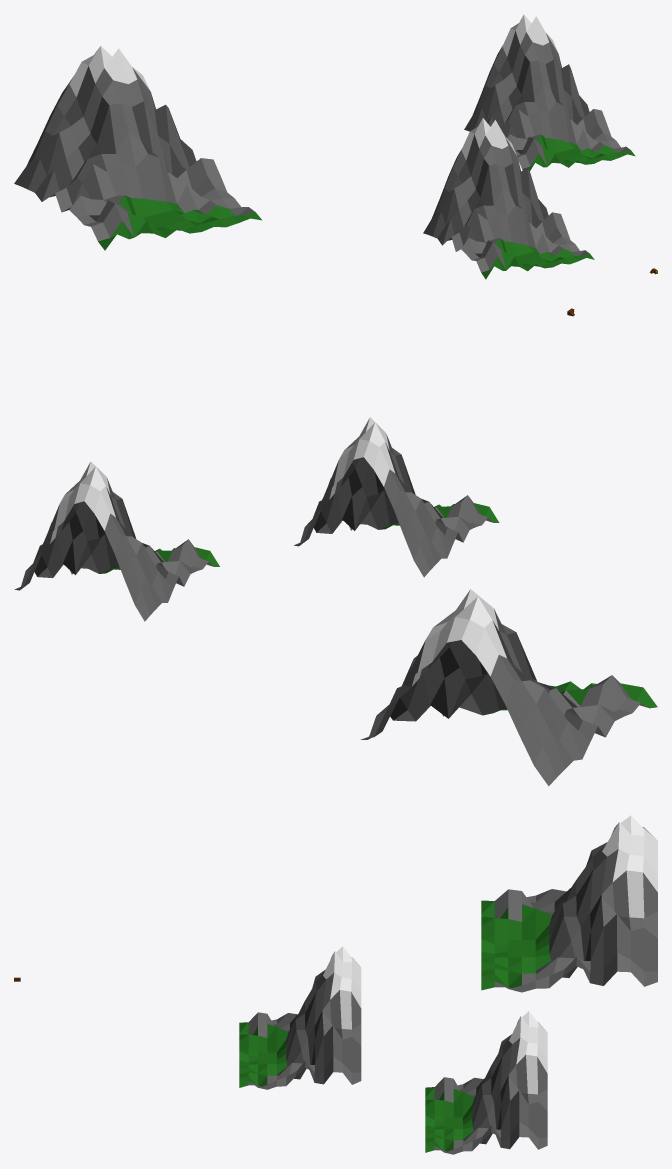
The model's file is top_block.fbx.
3 renders of one model, top to bottom at view 1: azimuth 30°, elevation 25°; view 2: azimuth 150°, elevation 25°; view 3: azimuth 270°, elevation 25°, orthographic. The views are drawn at different scales.
Parts seen in each view (by area): view 1: Plane.002, Plane, Plane.001; view 2: Plane.002, Plane, Plane.001; view 3: Plane.002, Plane, Plane.001.
Part boxes in pixels (bbox=[...]): Plane.002: bbox=[14, 46, 261, 250]; Plane: bbox=[423, 118, 594, 279]; Plane.001: bbox=[464, 14, 635, 170]; Plane.002: bbox=[360, 589, 657, 786]; Plane: bbox=[294, 417, 499, 577]; Plane.001: bbox=[14, 461, 219, 621]; Plane.002: bbox=[481, 815, 657, 992]; Plane: bbox=[239, 946, 361, 1089]; Plane.001: bbox=[425, 1011, 547, 1154].
Size of the model in its own units: 63742 by 17881 by 72873.
